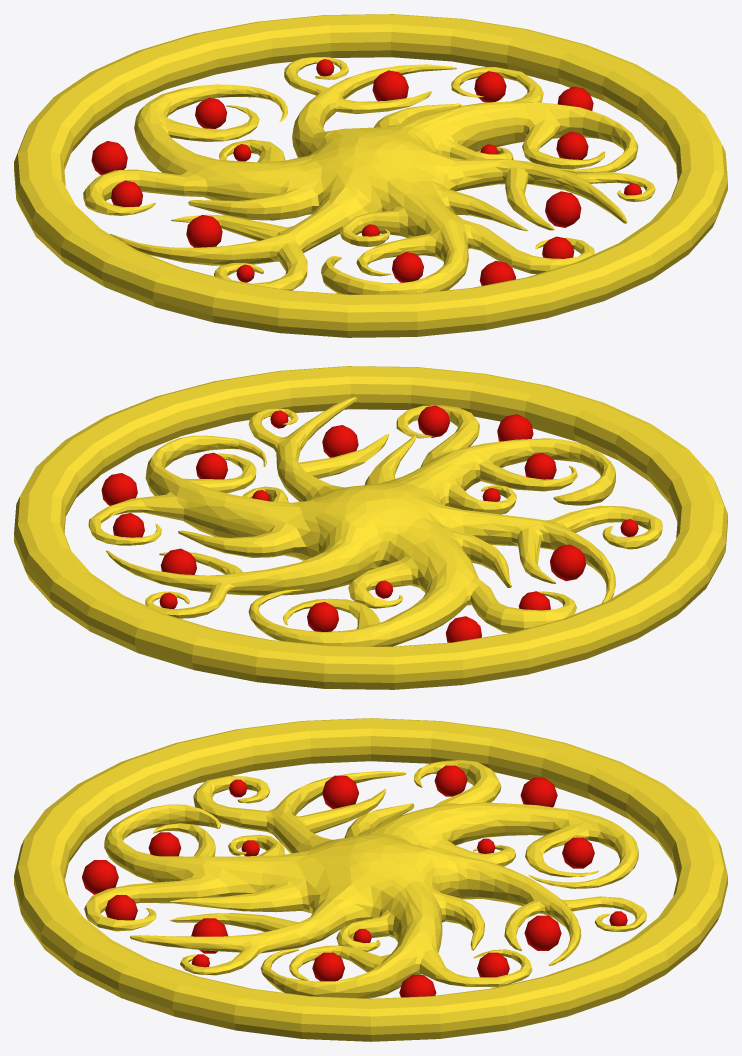
The model's file is fox_emblem.glb.
3 views of the same model, one above another, from view 1: azimuth 30°, elevation 25°; view 2: azimuth 150°, elevation 25°; view 3: azimuth 270°, elevation 25° (orthographic).
Visible parts, largest first — view 1: Cylinder, Icosphere.003; view 2: Cylinder, Icosphere.003; view 3: Cylinder, Icosphere.003.
Boxes of the visible parts, box(x1,y1,x2,y2) form: Cylinder: box(14, 14, 727, 337); Icosphere.003: box(91, 59, 641, 285); Cylinder: box(14, 366, 727, 689); Icosphere.003: box(101, 405, 638, 642); Cylinder: box(14, 718, 727, 1041); Icosphere.003: box(82, 765, 627, 997).
Size of the model in its own units: 10 by 1.05 by 10.
